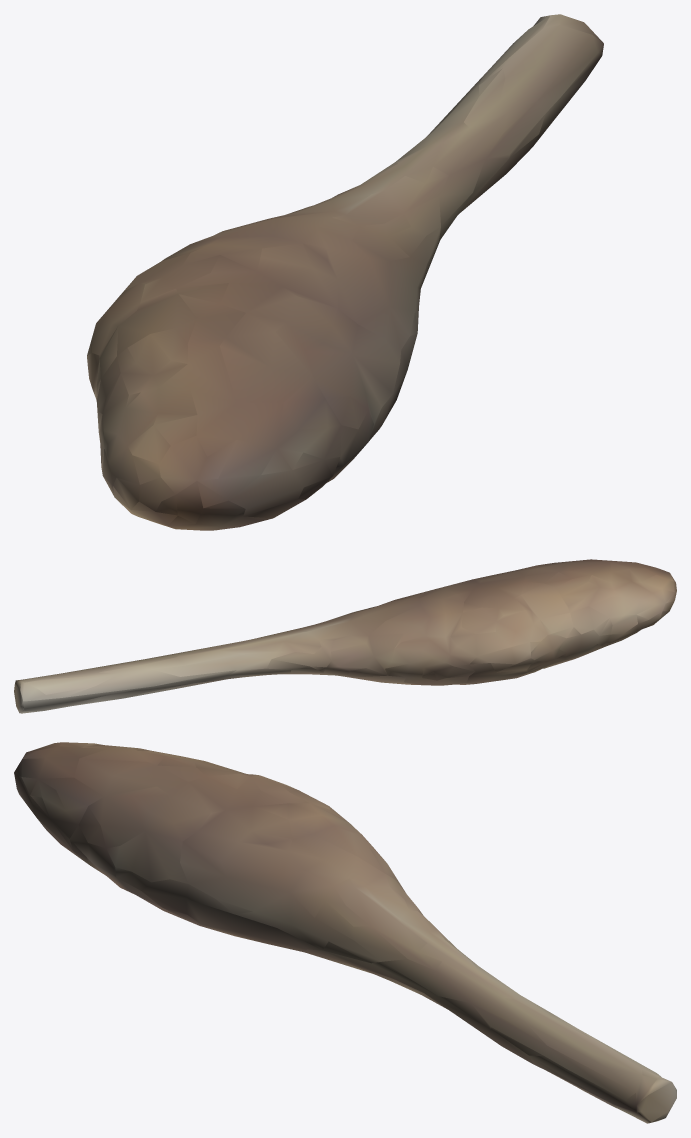
File: 0017_mask_018_chopsticks.glb
3 renders of one model, top to bottom at view 1: azimuth 30°, elevation 25°; view 2: azimuth 150°, elevation 25°; view 3: azimuth 270°, elevation 25°, orthographic. The views are drawn at different scales.
Parts seen in each view (by area): view 1: mask_018_object; view 2: mask_018_object; view 3: mask_018_object.
Boxes of the visible parts, x1,y1,x2,y2 form: mask_018_object: (87, 14, 603, 530); mask_018_object: (14, 559, 676, 713); mask_018_object: (14, 742, 676, 1123).
Size of the model in its own units: 0.1935 by 0.0379 by 0.1837.
